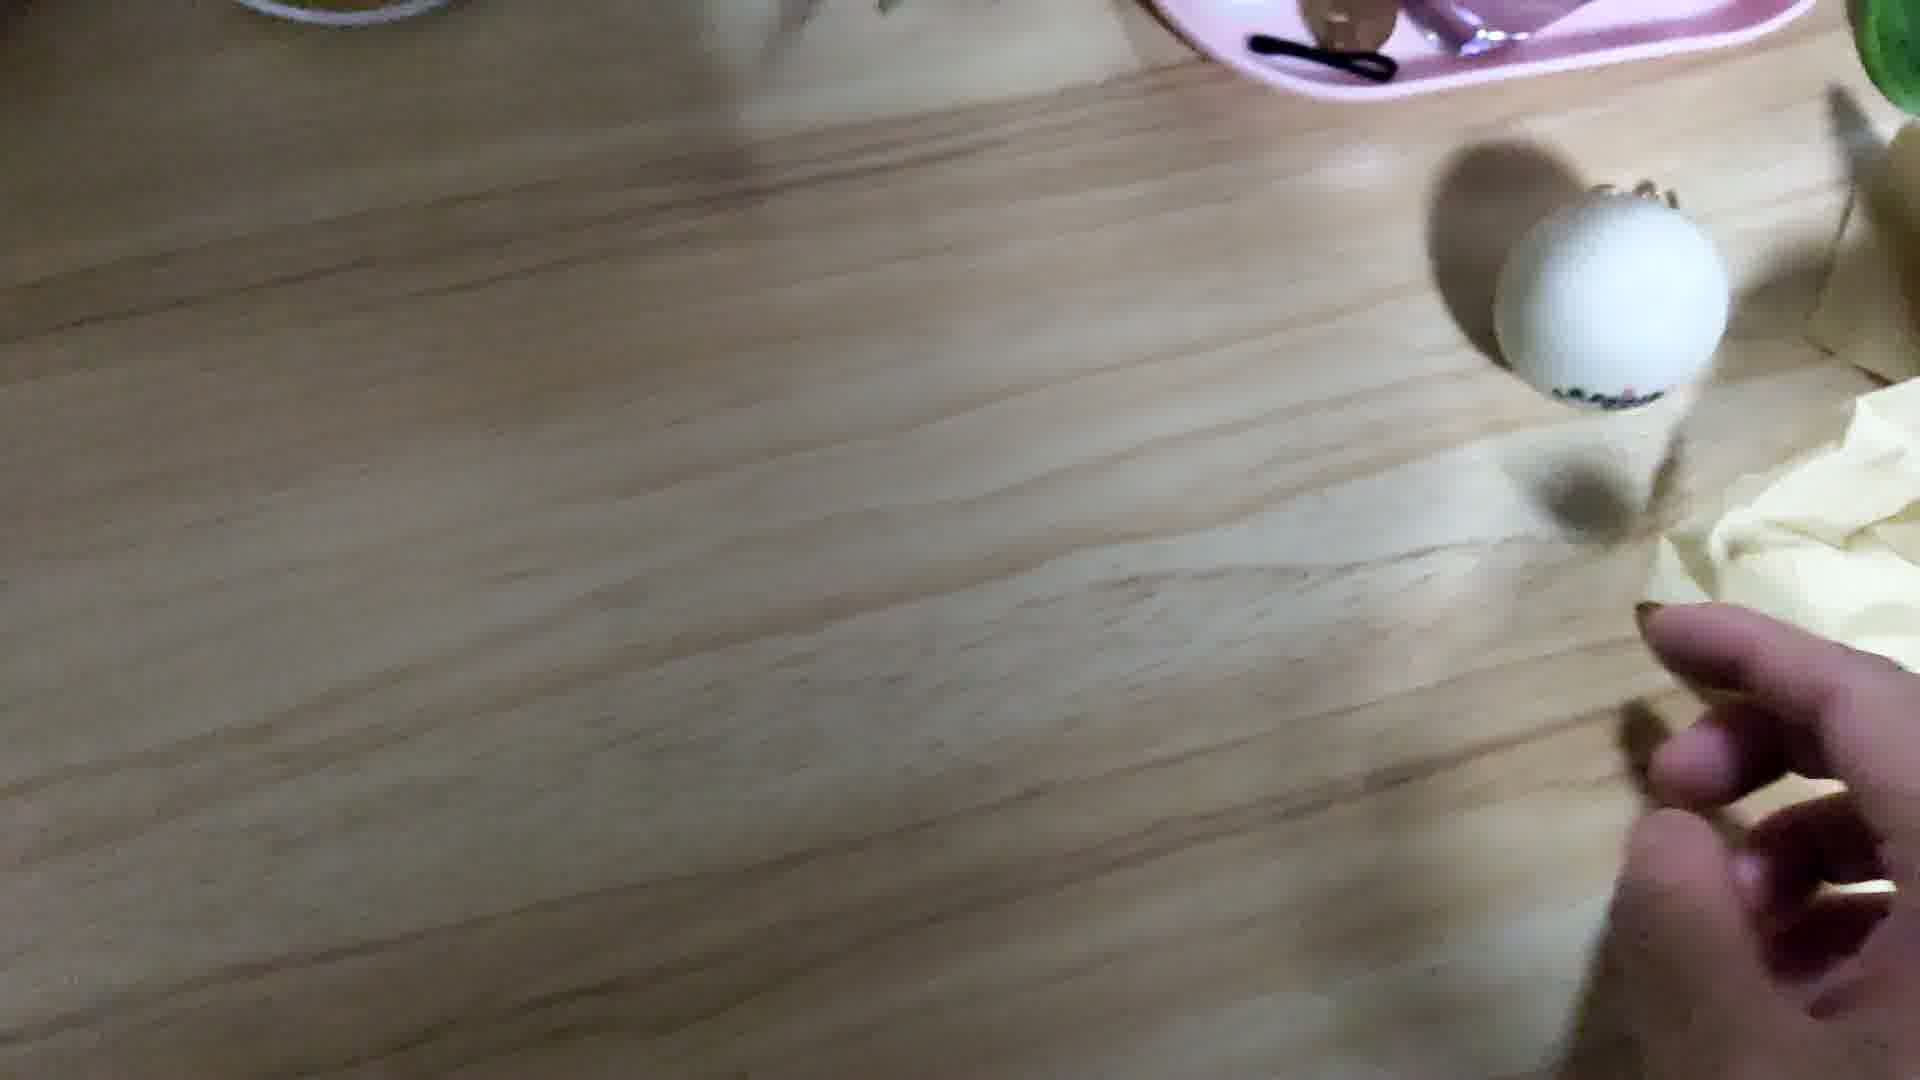Ball: (1493, 195, 1727, 400)
